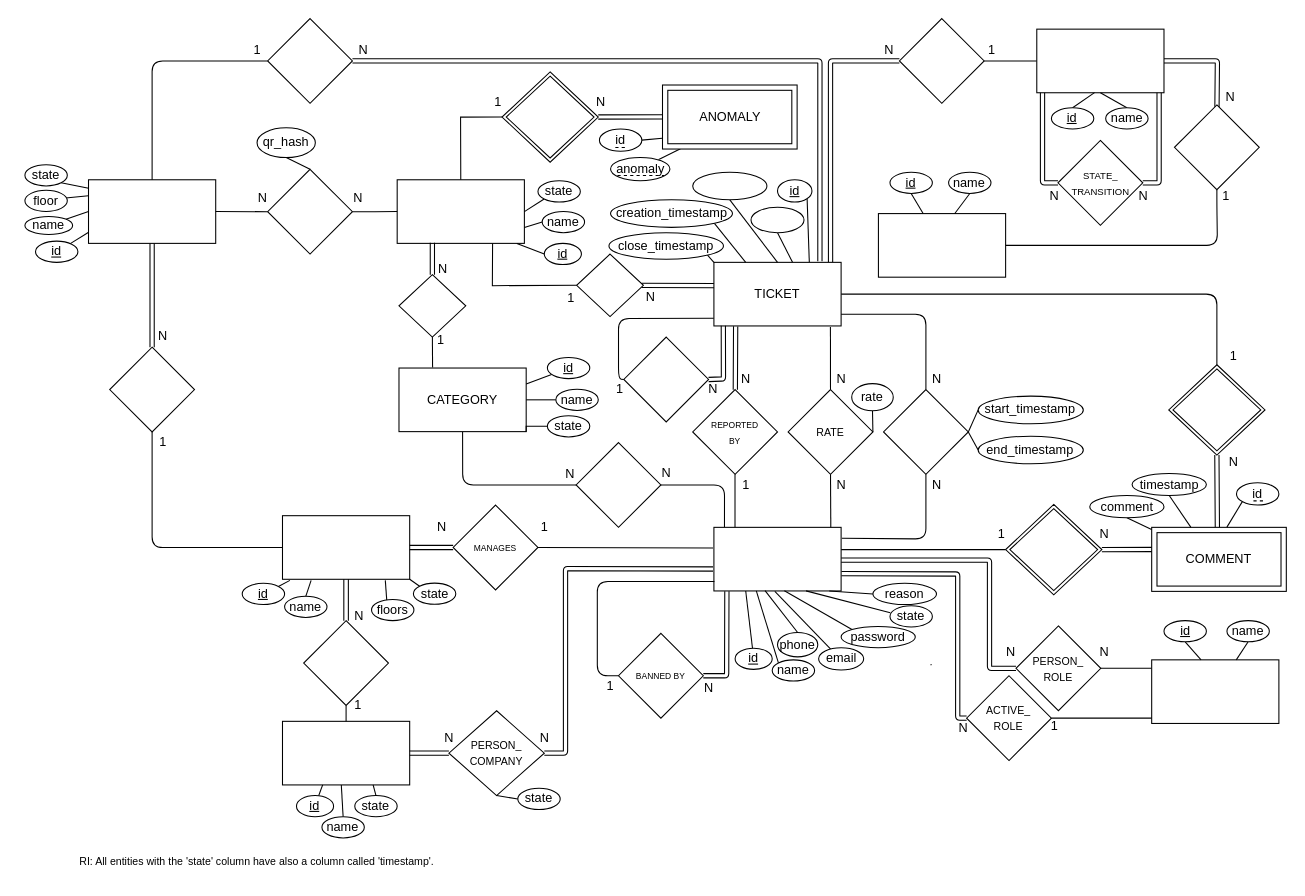
The diagram is 1305 pixels wide and 896 high, and some of its shapes have lost their labels. The centre of each missing label's shape, as x and y in pixels:
"BUILDING" belongs at point (345, 547).
"CHILD OF" belongs at point (666, 379).
"COMPANY" belongs at point (345, 752).
"description" belongs at point (729, 185).
"DEVICE" belongs at point (460, 211).
"EMPLOYEE_STATE" belongs at point (1100, 60).
"FIXING_BY" belongs at point (925, 431).
"PERSON" belongs at point (777, 558).
"PERSON_ SKILL" belongs at point (618, 484).
"ROLE" belongs at point (1215, 691).
"ROOM" belongs at point (151, 211).
"ROOM_ DEVICE" belongs at point (309, 211).
"subject" belongs at point (777, 219).
"USER_STATE" belongs at point (941, 245).
